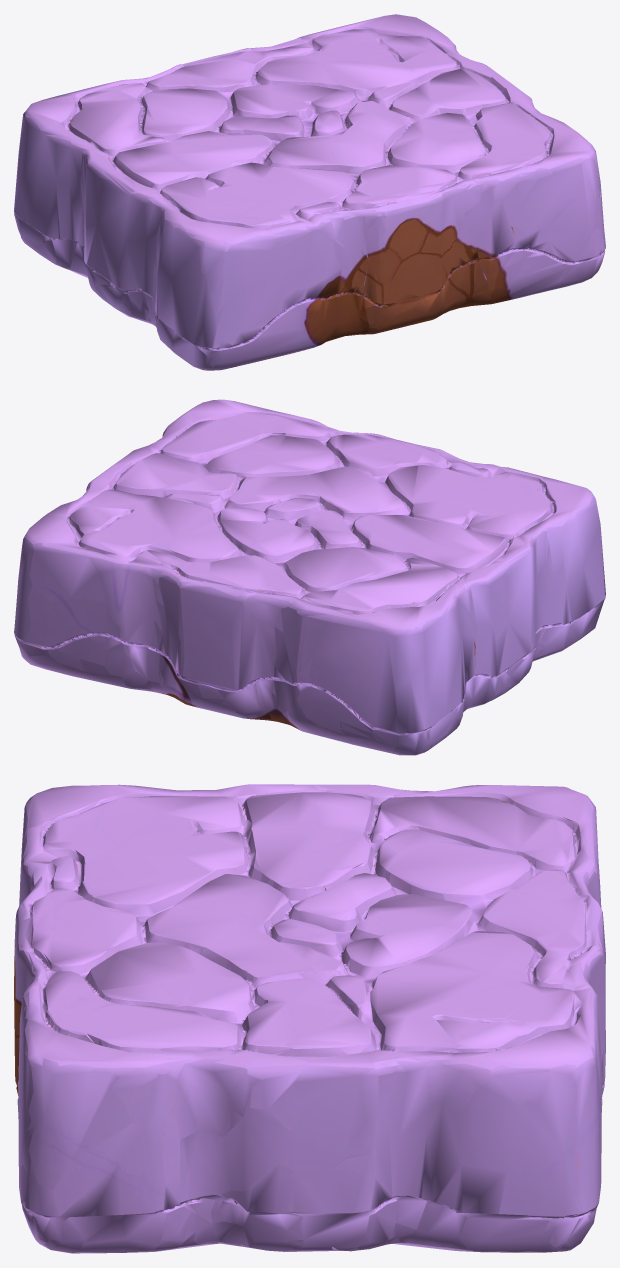
Rendered from decktile.glb.
3 views of the same model, one above another, from view 1: azimuth 30°, elevation 25°; view 2: azimuth 150°, elevation 25°; view 3: azimuth 270°, elevation 25° (orthographic). The views are drawn at different scales.
Bounding box in the file's own units: 1.9 × 0.5995 × 1.62.
Materials: 1 (1 with a texture image).
